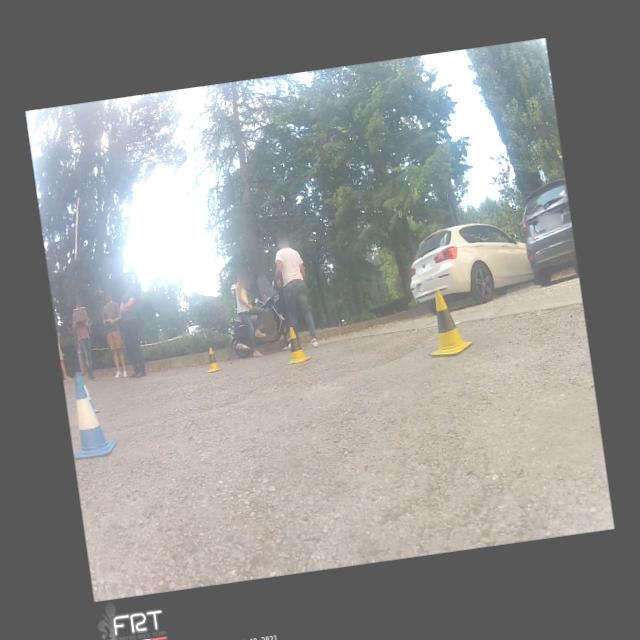blue_cone: (65, 376, 118, 460), (75, 370, 100, 414)
yellow_cone: (420, 287, 474, 359), (281, 324, 312, 365), (204, 346, 224, 372)
